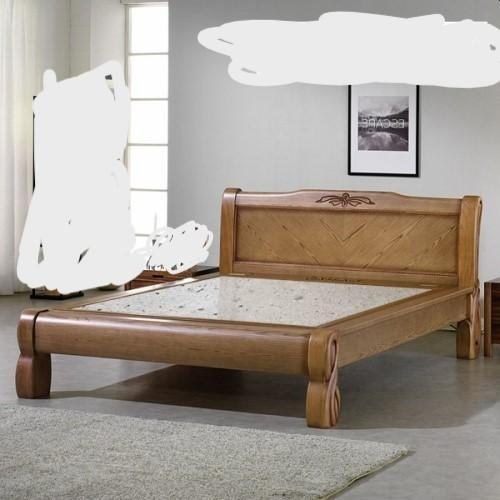Bed-Mattress: (18, 169, 498, 420)
